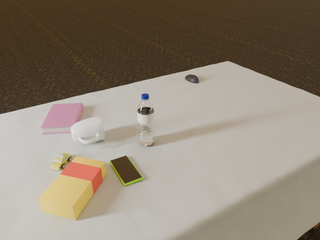book: (41, 103, 83, 134)
bottle: (137, 94, 155, 146)
box: (39, 156, 107, 220)
cup: (70, 116, 105, 144)
mouse: (185, 74, 199, 83)
phone: (110, 156, 143, 186)
toy_car: (51, 153, 72, 170)
